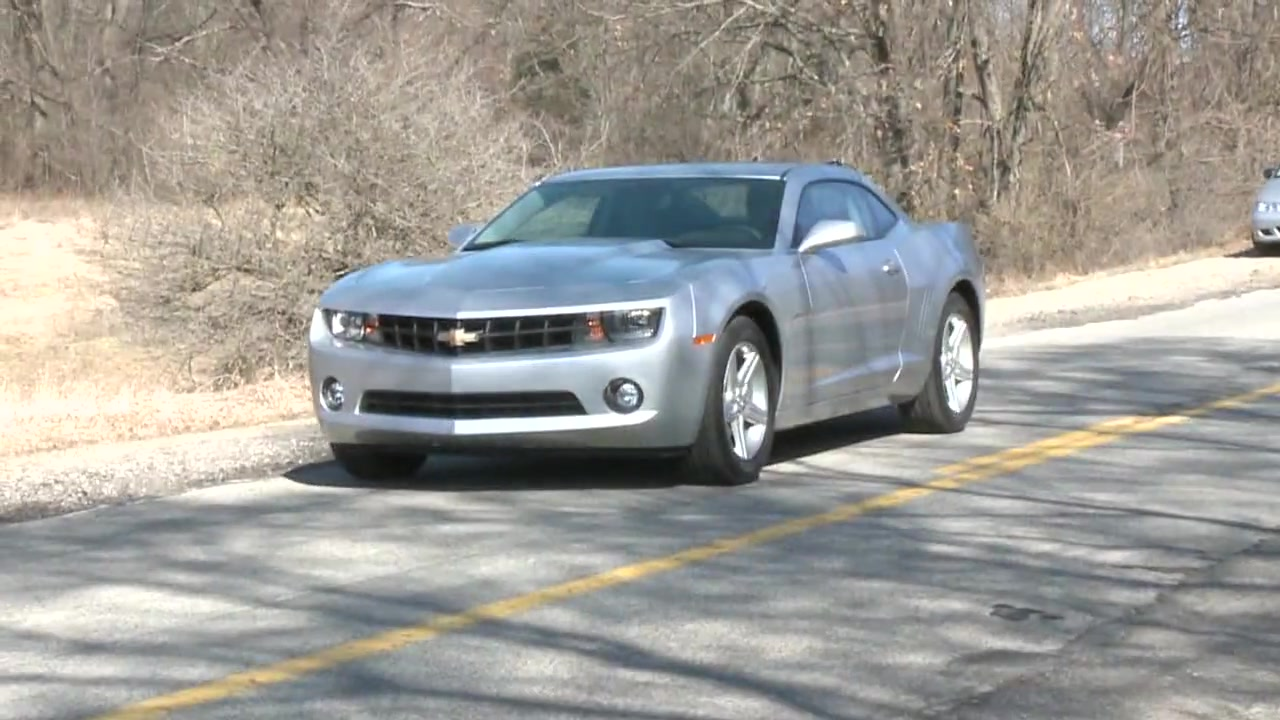car: (303, 159, 988, 492)
